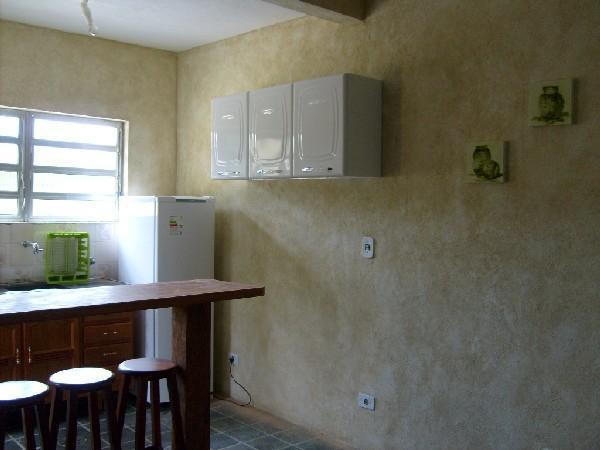Electrodomestico: (130, 196, 219, 393)
